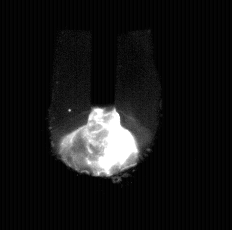arame: (91, 0, 116, 109)
poca: (50, 0, 158, 230)
